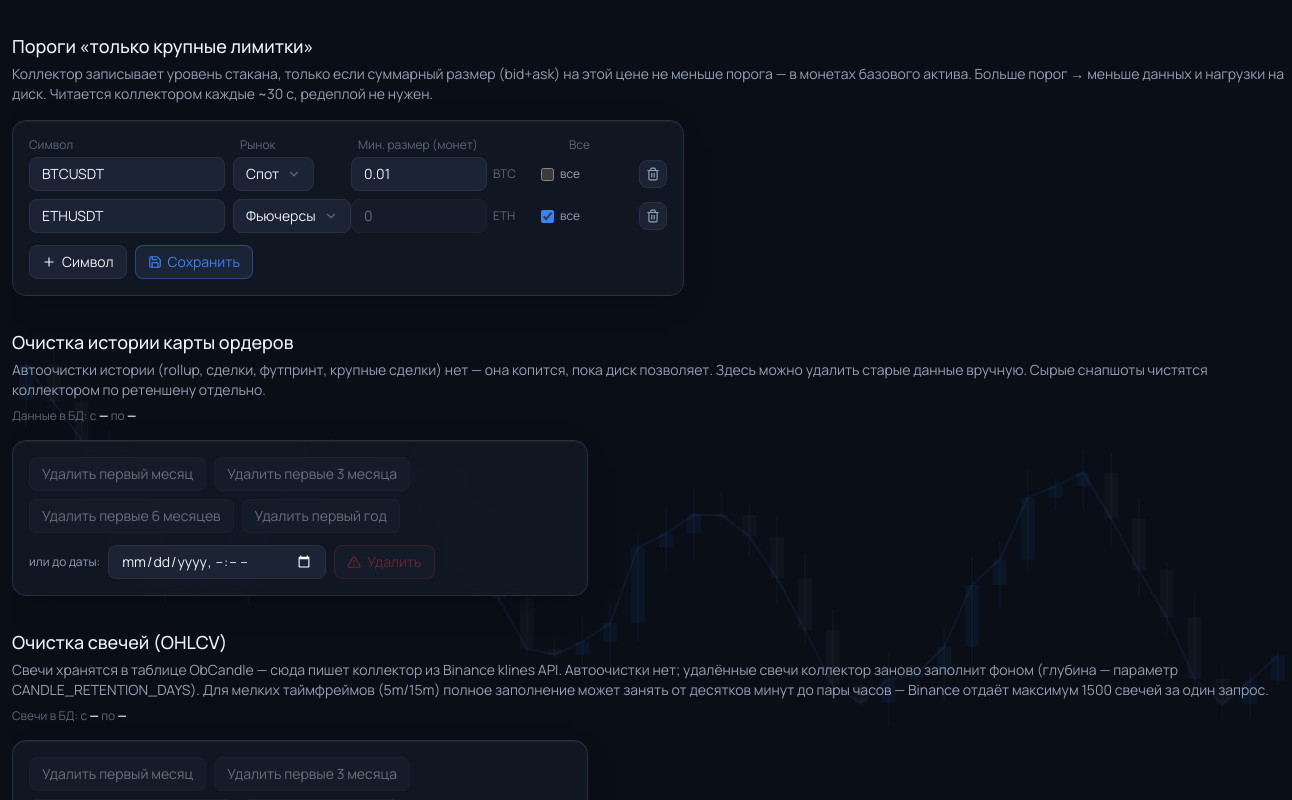
Test case: AdminCollectorConfig › shows error message when save fails
The width and height of the screenshot is (1292, 800).
Check: the field showing "BTCUSDT" in the row of "BTC" is shown, box [29,157,225,191]
Click the button "Сохранить".
click(194, 262)  # box [134,245,253,279]
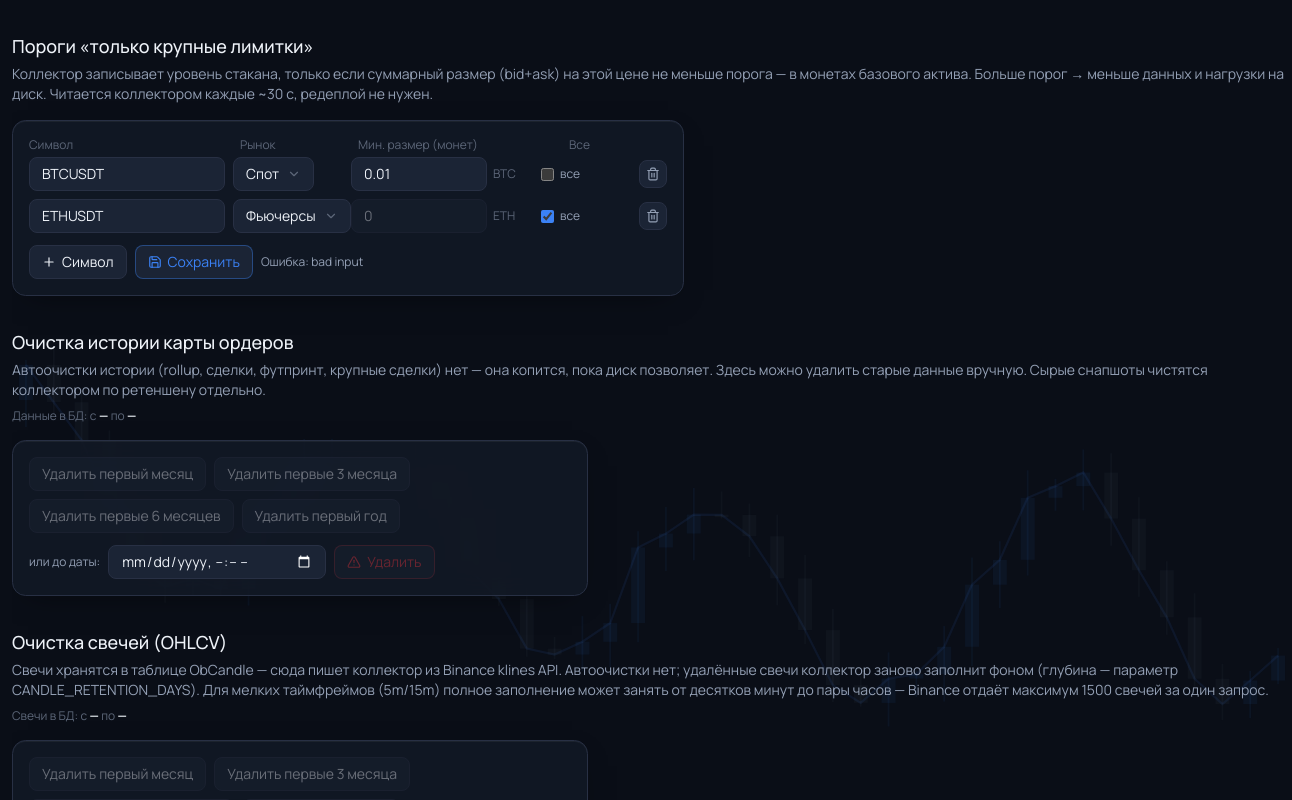
Check: the text "Ошибка: bad input" is shown, box [261,254,363,270]
